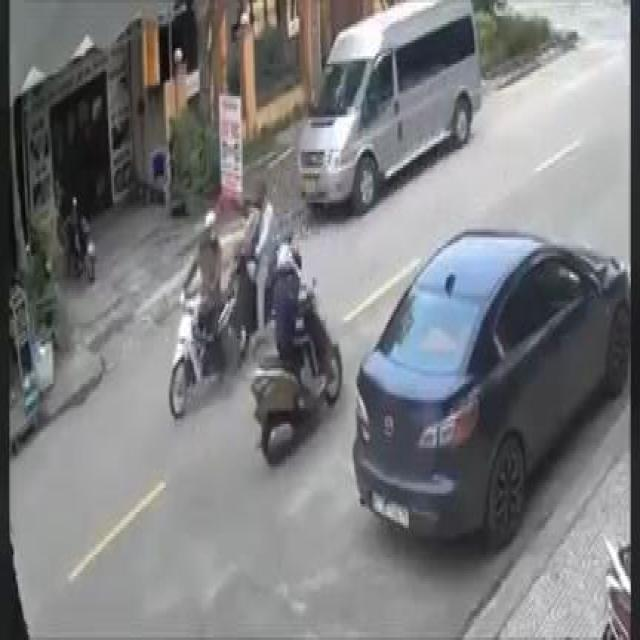accident: (163, 177, 305, 428)
